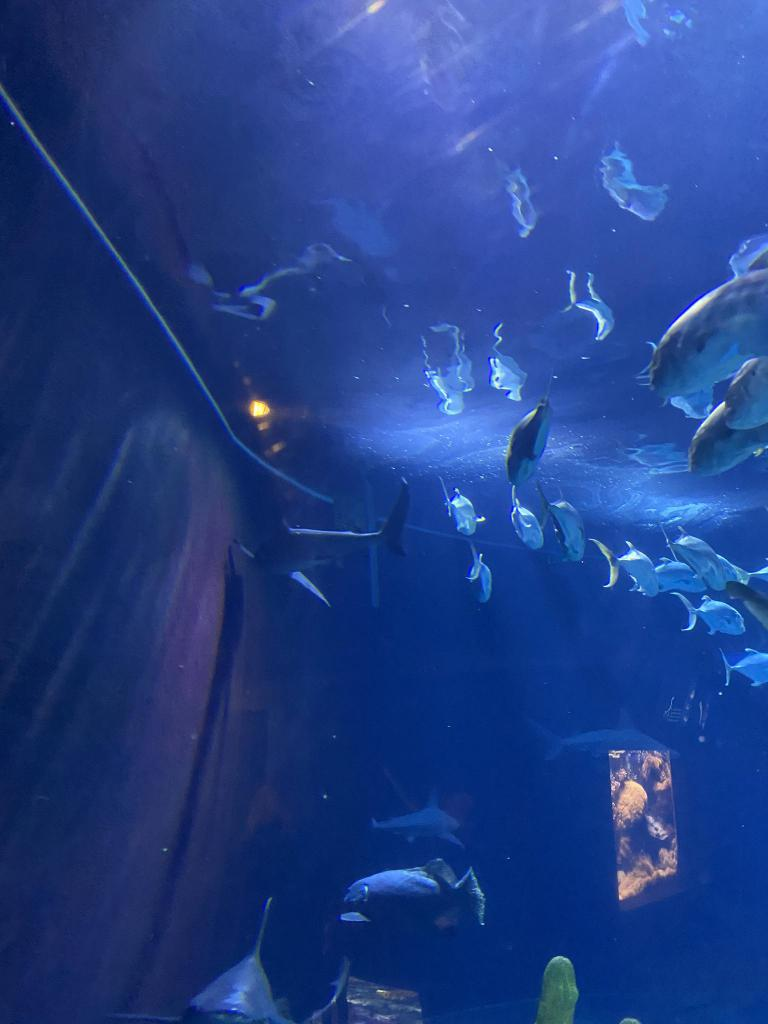fish: (649, 268, 767, 398), (339, 856, 485, 936), (687, 399, 767, 475), (658, 522, 726, 588), (536, 478, 586, 562), (588, 538, 658, 598), (668, 592, 746, 634), (724, 356, 768, 430), (630, 557, 706, 595), (438, 477, 484, 537), (512, 483, 544, 549), (718, 648, 768, 686), (464, 538, 492, 602)
shark: (216, 470, 416, 612), (107, 897, 300, 1023), (522, 708, 680, 760), (372, 787, 464, 849)
stingray: (506, 397, 552, 485)
